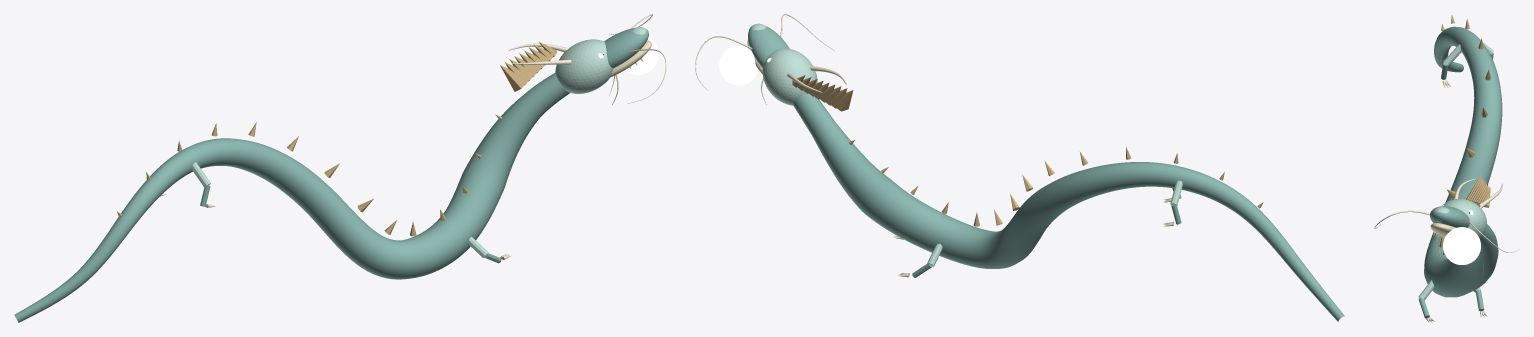
Rendered from rong-thoi-ly-v2.glb.
The picture shows the model from 3 angles, left to right: view 1: azimuth 30°, elevation 25°; view 2: azimuth 150°, elevation 25°; view 3: azimuth 270°, elevation 25°; orthographic projection. The views are drawn at different scales.
Parts seen in each view (by area): view 1: Body, Head.Cranium, Head.Snout, Pearl; view 2: Body, Head.Cranium, Pearl, Head.Snout; view 3: Body, Pearl, Head.Cranium, Head.Snout, Head.Jaw, Leg.back_right.upper, Leg.front_right.upper, Leg.front_left.lower, Leg.front_right.lower, Horn.left, Whisker.right.0.
Part boxes in pixels (left/top/right/bottom): Body: left=14, top=73, right=569, bottom=322; Head.Cranium: left=555, top=39, right=613, bottom=93; Head.Snout: left=604, top=28, right=648, bottom=68; Pearl: left=625, top=37, right=658, bottom=74; Body: left=793, top=93, right=1344, bottom=321; Head.Cranium: left=762, top=48, right=817, bottom=105; Pearl: left=719, top=46, right=758, bottom=85; Head.Snout: left=748, top=26, right=789, bottom=67; Body: left=1424, top=26, right=1502, bottom=297; Pearl: left=1443, top=227, right=1480, bottom=264; Head.Cranium: left=1442, top=198, right=1486, bottom=238; Head.Snout: left=1430, top=206, right=1469, bottom=227; Head.Jaw: left=1430, top=223, right=1455, bottom=236; Leg.back_right.upper: left=1443, top=44, right=1461, bottom=66; Leg.front_right.upper: left=1418, top=280, right=1434, bottom=300; Leg.front_left.lower: left=1476, top=289, right=1484, bottom=311; Leg.front_right.lower: left=1418, top=298, right=1429, bottom=318; Horn.left: left=1479, top=183, right=1502, bottom=208; Whisker.right.0: left=1374, top=210, right=1429, bottom=228.
Bounding box in the file's own units: 16.07 × 4.74 × 3.35.
